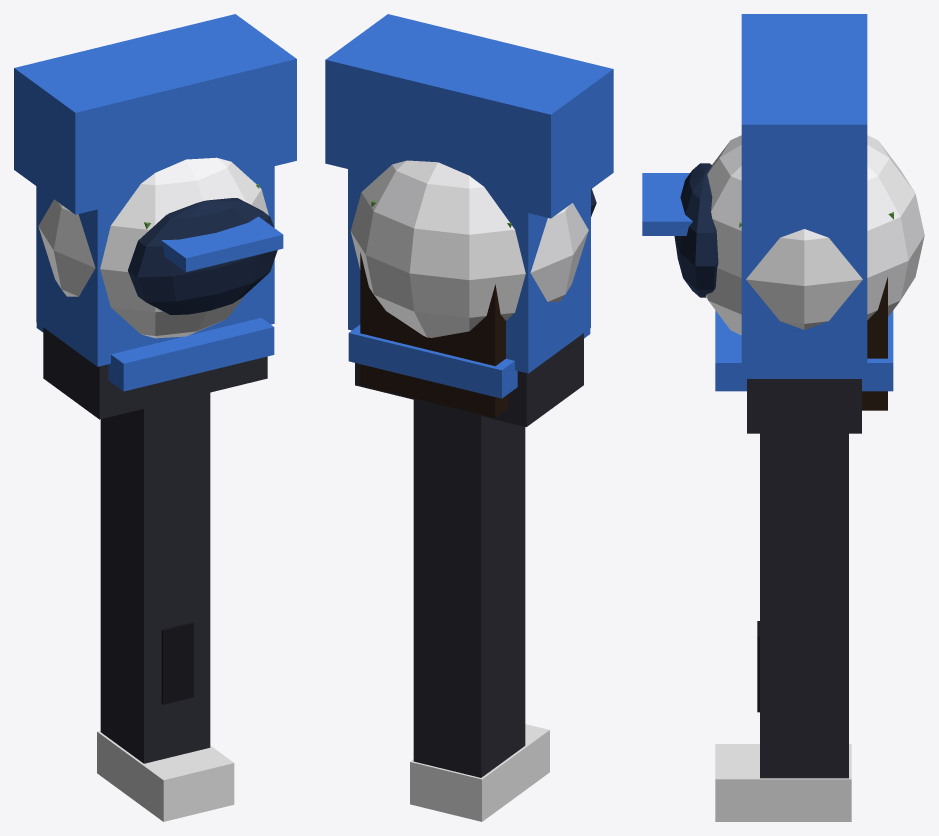
The model's file is peds.glb.
The picture shows the model from 3 angles, left to right: view 1: azimuth 30°, elevation 25°; view 2: azimuth 150°, elevation 25°; view 3: azimuth 270°, elevation 25°; orthographic projection. The views are drawn at different scales.
Parts seen in each view (by area): view 1: PedTorso, PedLeg, PedHeadHelmet, PedHeadCap, PedArmR; view 2: PedTorso, PedLeg, PedHeadHelmet, PedHeadLong; view 3: PedTorso, PedLeg, PedHeadHelmet, PedHeadCap, PedHeadLong.
Part boxes in pixels (box(x1,y1,x2,y2)): PedTorso: box(14, 14, 296, 419); PedLeg: box(97, 392, 234, 821); PedHeadHelmet: box(36, 157, 277, 391); PedHeadCap: box(161, 216, 283, 272); PedArmR: box(161, 622, 193, 704); PedTorso: box(325, 14, 613, 426); PedLeg: box(410, 400, 549, 821); PedHeadHelmet: box(348, 160, 596, 398); PedHeadLong: box(360, 252, 508, 417); PedTorso: box(741, 14, 867, 433); PedLeg: box(715, 433, 851, 821); PedHeadHelmet: box(674, 135, 924, 391); PedHeadCap: box(642, 173, 692, 235); PedHeadLong: box(862, 277, 887, 410).
Bounding box in the file's own units: 0.5 × 1.55 × 0.54.
